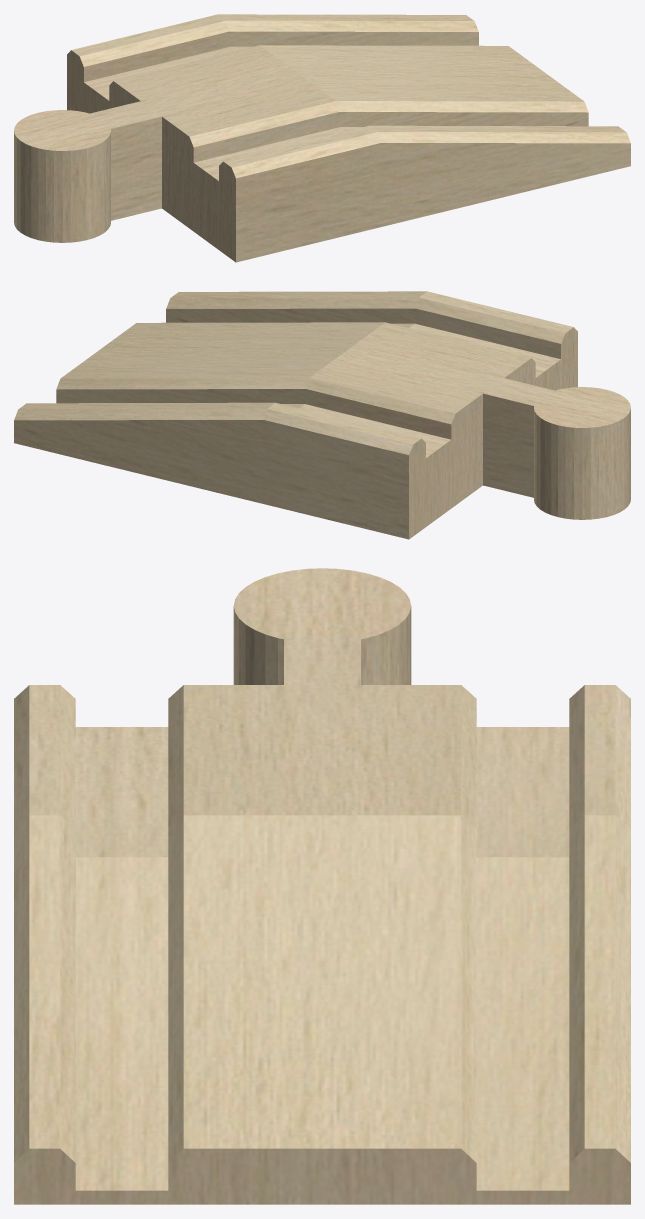
The picture shows the model from 3 angles, top to bottom: view 1: azimuth 30°, elevation 25°; view 2: azimuth 150°, elevation 25°; view 3: azimuth 270°, elevation 25°; orthographic projection. The views are drawn at different scales.
Parts seen in each view (by area): view 1: SketchUp; view 2: SketchUp; view 3: SketchUp.
Part boxes in pixels (box(x1,y1,x2,y2)): SketchUp: box(14, 14, 630, 262); SketchUp: box(14, 291, 630, 539); SketchUp: box(14, 568, 630, 1204).
Size of the model in its own units: 2.83 by 1.57 by 0.4724.
